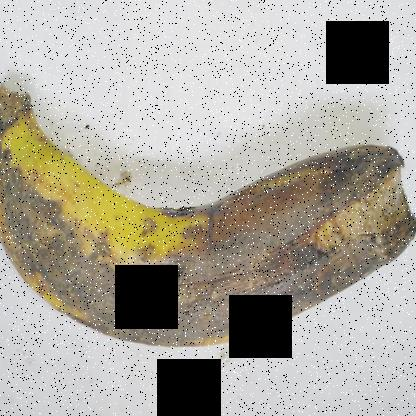rotten: (0, 96, 415, 375)
